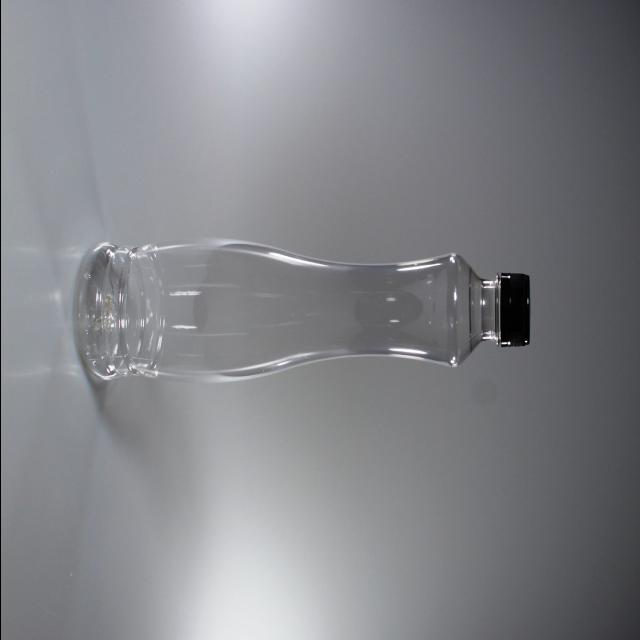bottle: (74, 240, 528, 382)
